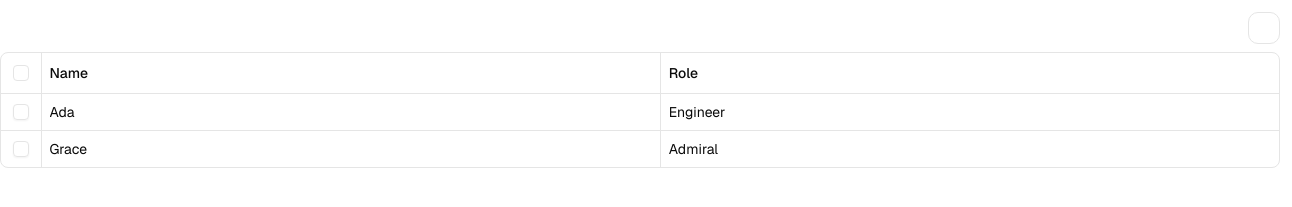
Test case: DataGrid › async commit contract › keeps the typed value on rejection and shows the error with the invalid-cell treatment
Click the 2nd cell at (351, 112), box [41, 93, 660, 130]
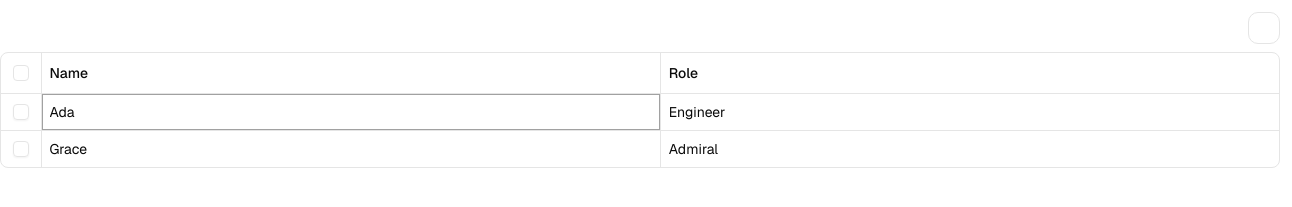
Replace the text in the 1st field with "Updated" at (351, 112), box [42, 94, 660, 130]
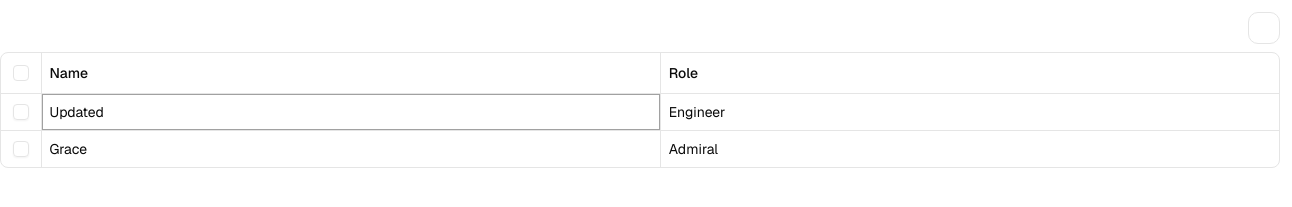
Press Tab
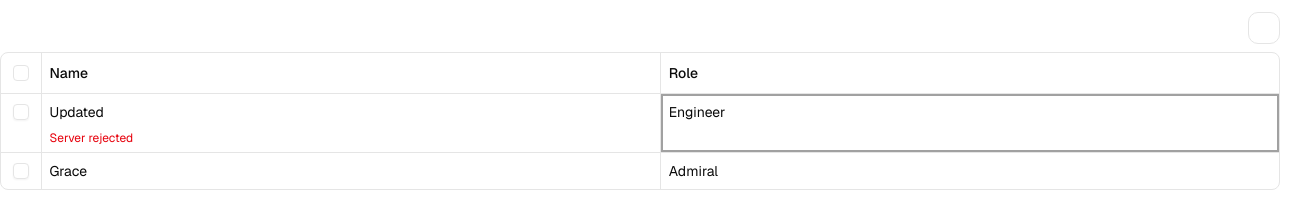
expect the 1st field is enabled: met, box [42, 94, 660, 130]
expect the text "Server rejected" is shown: met, box [50, 130, 133, 146]
